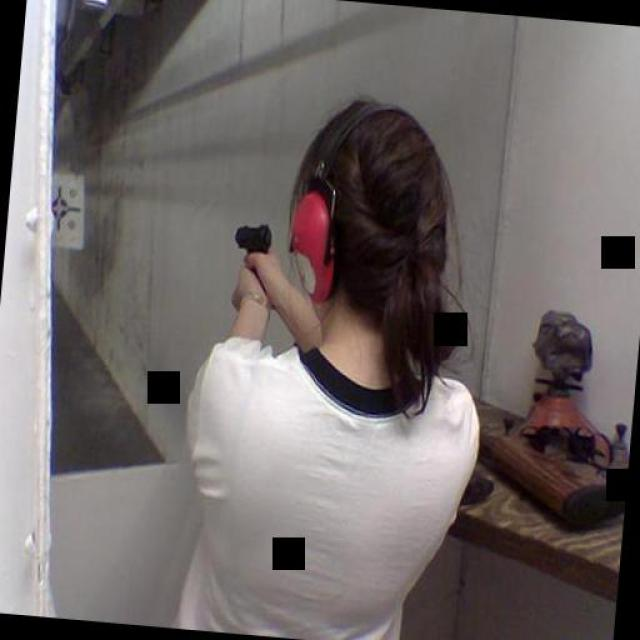gun: (228, 219, 272, 281)
